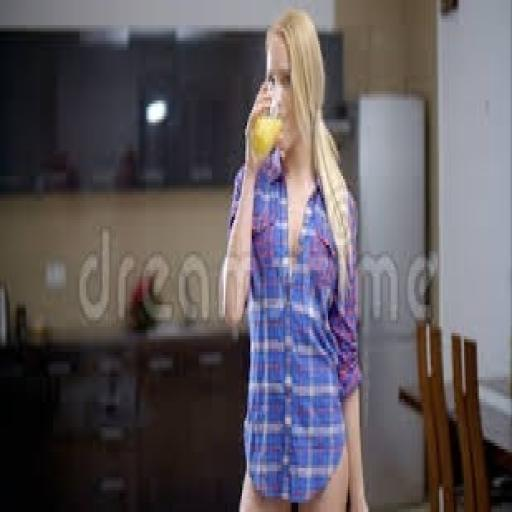drinking: (248, 79, 282, 160)
